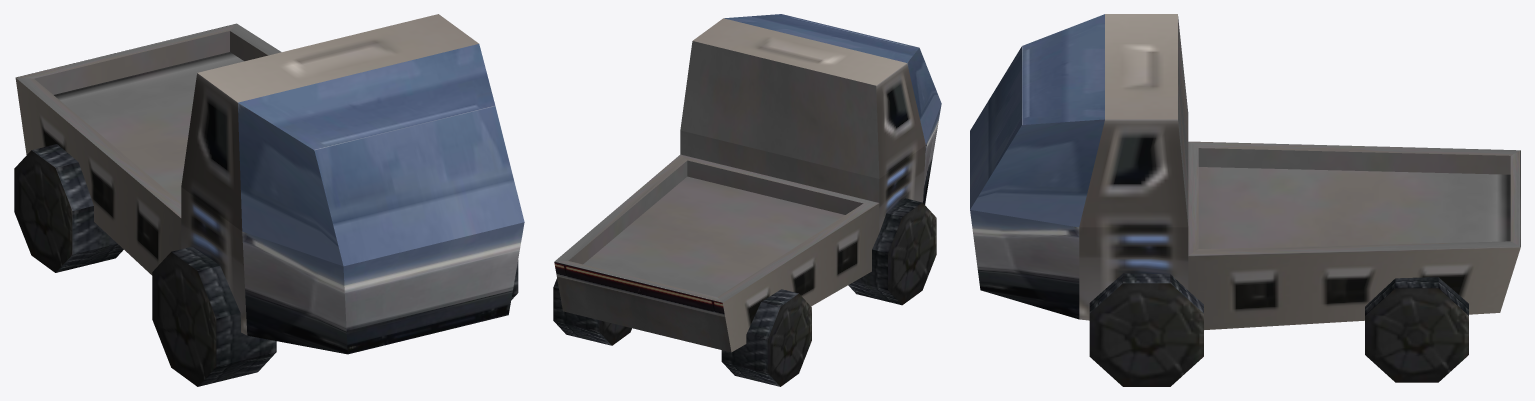
Rendered from CollectorBot.fbx.
The picture shows the model from 3 angles, left to right: view 1: azimuth 30°, elevation 25°; view 2: azimuth 150°, elevation 25°; view 3: azimuth 270°, elevation 25°; orthographic projection. The views are drawn at different scales.
Visible parts, largest first — view 1: Cabin, CargoBoot, front_right_wheel, back_right_wheel; view 2: CargoBoot, Cabin, front_right_wheel, back_right_wheel, back_left_wheel; view 3: Cabin, CargoBoot, front_left_wheel, back_left_wheel.
Part boxes in pixels (x1,y1,x2,y2): Cabin: [181, 14, 524, 354]; CargoBoot: [15, 23, 281, 275]; front_right_wheel: [152, 247, 276, 386]; back_right_wheel: [14, 144, 123, 272]; CargoBoot: [554, 154, 879, 352]; Cabin: [680, 14, 941, 232]; front_right_wheel: [848, 198, 936, 305]; back_right_wheel: [721, 289, 811, 386]; back_left_wheel: [553, 278, 631, 345]; Cabin: [970, 14, 1188, 320]; CargoBoot: [1188, 141, 1520, 329]; front_left_wheel: [1089, 273, 1203, 386]; back_left_wheel: [1365, 277, 1468, 382].
Bounding box in the file's own units: 188 × 169 × 331.
1 material, 1 textured.
